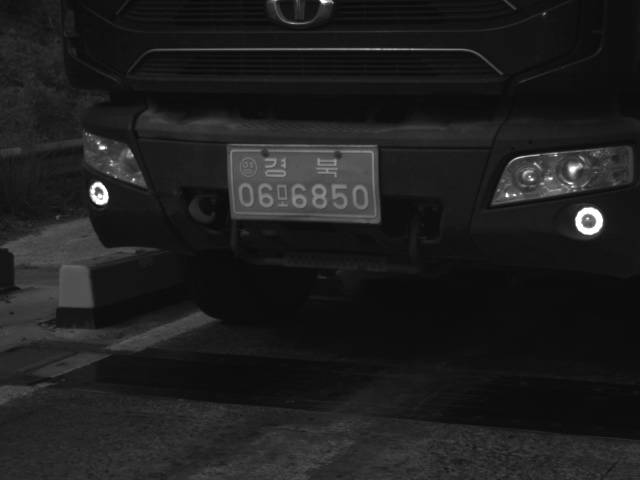car: (77, 1, 639, 320)
plate: (228, 147, 377, 219)
